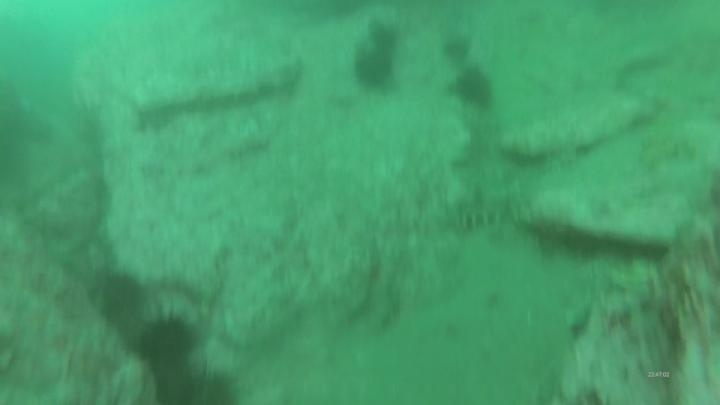echinus: (135, 310, 199, 370), (95, 270, 148, 326), (173, 365, 243, 405), (351, 45, 397, 93), (451, 65, 497, 111), (366, 21, 402, 55), (439, 33, 474, 65)
holothurian: (439, 180, 530, 233)
